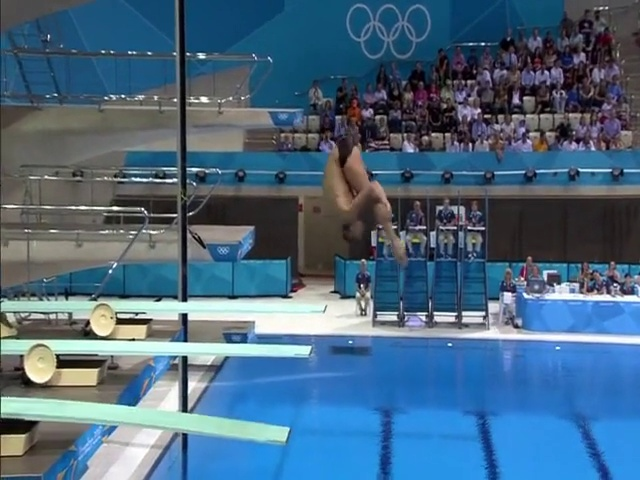diver: (323, 138, 408, 266)
